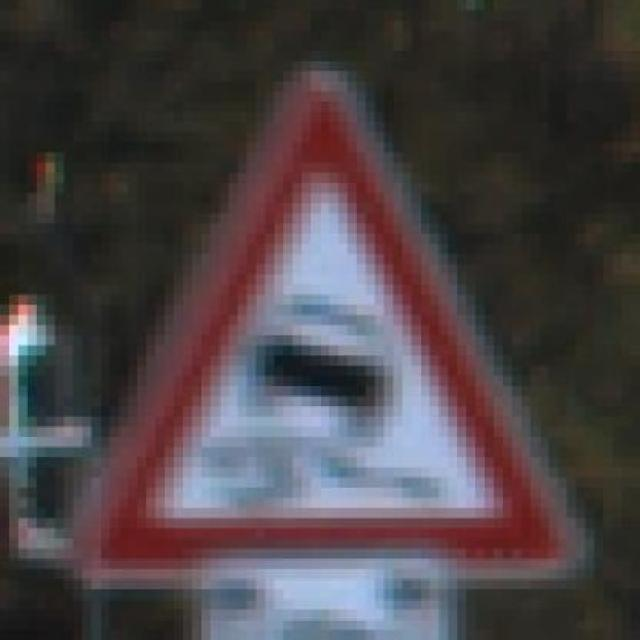Slippery Road Ahead: (64, 61, 604, 590)
